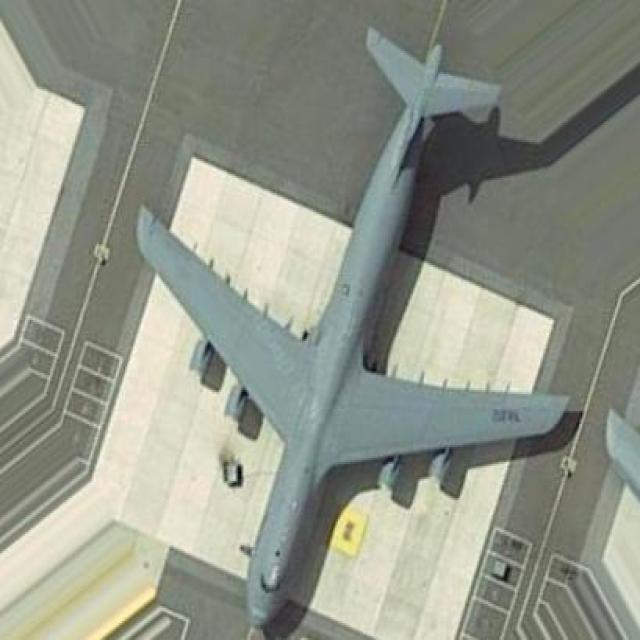C-5_TopDown: (132, 19, 584, 638)
